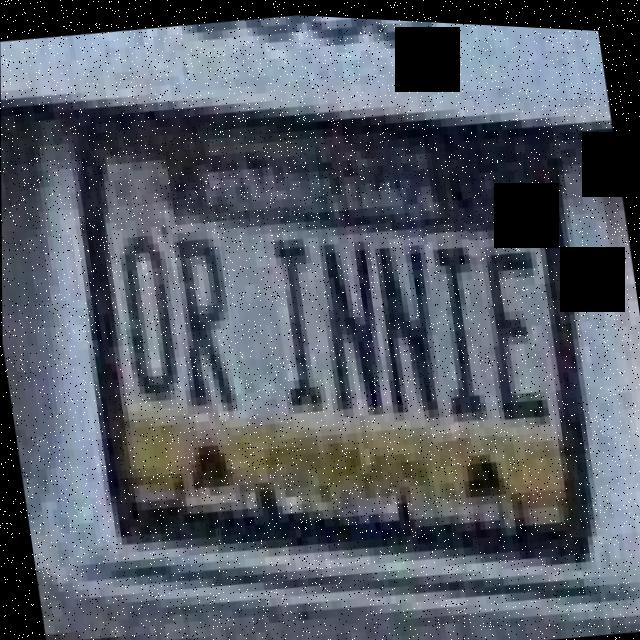0: (101, 200, 188, 414)
E: (473, 207, 564, 464)
I: (425, 209, 500, 446), (264, 216, 335, 431)
N: (364, 209, 450, 435), (310, 216, 394, 439)
R: (165, 203, 249, 447)
